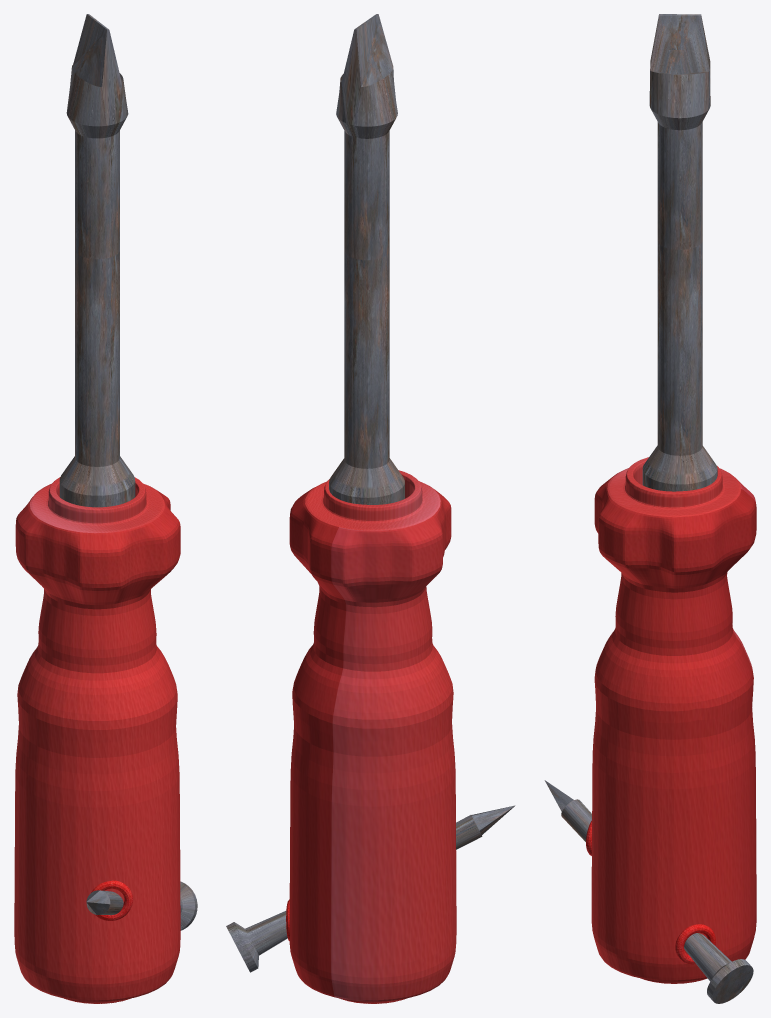
File: Chave_3.fbx
3 renders of one model, left to right at view 1: azimuth 30°, elevation 25°; view 2: azimuth 150°, elevation 25°; view 3: azimuth 270°, elevation 25°, orthographic.
Visible parts, largest first — view 1: Cylinder.009, Cylinder.013, Cylinder.011, Torus.001; view 2: Cylinder.009, Cylinder.013, Cylinder.011; view 3: Cylinder.009, Cylinder.013, Cylinder.011, Torus.001.
Boxes of the visible parts, x1=… form: Cylinder.009: x1=14, y1=477, x2=180, y2=1003; Cylinder.013: x1=59, y1=14, x2=135, y2=507; Cylinder.011: x1=86, y1=881, x2=197, y2=930; Torus.001: x1=91, y1=880, x2=132, y2=920; Cylinder.009: x1=289, y1=470, x2=456, y2=1003; Cylinder.013: x1=329, y1=14, x2=404, y2=504; Cylinder.011: x1=226, y1=805, x2=515, y2=972; Cylinder.009: x1=591, y1=457, x2=756, y2=983; Cylinder.013: x1=642, y1=14, x2=717, y2=491; Cylinder.011: x1=544, y1=780, x2=753, y2=1003; Torus.001: x1=586, y1=820, x2=715, y2=964.
Bounding box in the file's own units: 257 × 1190 × 241.
4 materials, 4 textured.
